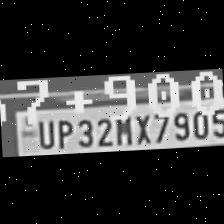0: (188, 106, 209, 138)
2: (93, 113, 113, 146)
3: (72, 112, 94, 147)
5: (207, 104, 224, 138)
7: (148, 108, 170, 142)
9: (168, 107, 189, 140)
M: (111, 110, 133, 144)
P: (51, 114, 73, 148)
U: (33, 112, 55, 148)
X: (132, 108, 152, 143)
